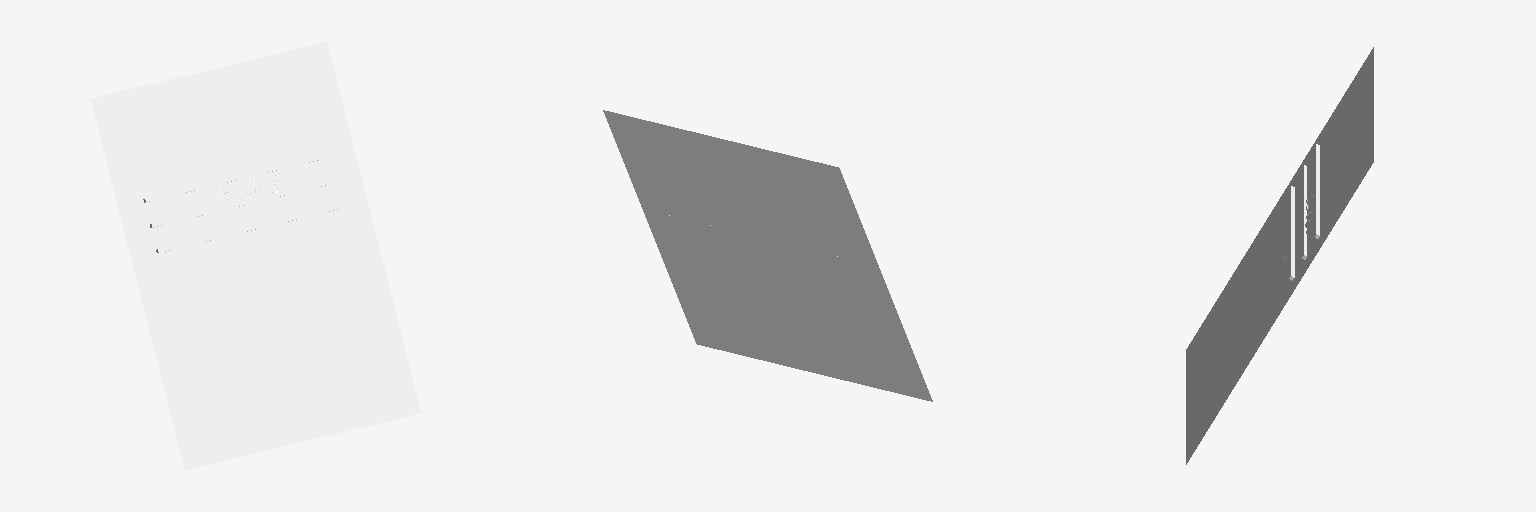
The model's file is Thing_7.obj.
3 views of the same model, side by side, from view 1: azimuth 30°, elevation 25°; view 2: azimuth 150°, elevation 25°; view 3: azimuth 270°, elevation 25° (orthographic).
Parts seen in each view (by area): view 1: Mesh607_Group161_Group158_Group_50_1_Model, Mesh611_Group165_Group162_Group158_Group_50_1_Model, Mesh609_Group163_Group162_Group158_Group_50_1_Model, Mesh610_Group164_Group162_Group158_Group_50_1_Model; view 2: Mesh607_Group161_Group158_Group_50_1_Model; view 3: Mesh607_Group161_Group158_Group_50_1_Model, Mesh611_Group165_Group162_Group158_Group_50_1_Model, Mesh609_Group163_Group162_Group158_Group_50_1_Model.
Boxes of the visible parts, x1=… form: Mesh607_Group161_Group158_Group_50_1_Model: x1=91, y1=41, x2=420, y2=470; Mesh611_Group165_Group162_Group158_Group_50_1_Model: x1=143, y1=153, x2=330, y2=202; Mesh609_Group163_Group162_Group158_Group_50_1_Model: x1=156, y1=204, x2=343, y2=252; Mesh610_Group164_Group162_Group158_Group_50_1_Model: x1=150, y1=179, x2=337, y2=227; Mesh607_Group161_Group158_Group_50_1_Model: x1=603, y1=110, x2=932, y2=401; Mesh607_Group161_Group158_Group_50_1_Model: x1=1186, y1=47, x2=1373, y2=464; Mesh611_Group165_Group162_Group158_Group_50_1_Model: x1=1314, y1=144, x2=1319, y2=238; Mesh609_Group163_Group162_Group158_Group_50_1_Model: x1=1289, y1=186, x2=1294, y2=280.
Size of the model in its own units: 3.7 by 4.53 by 2.54.